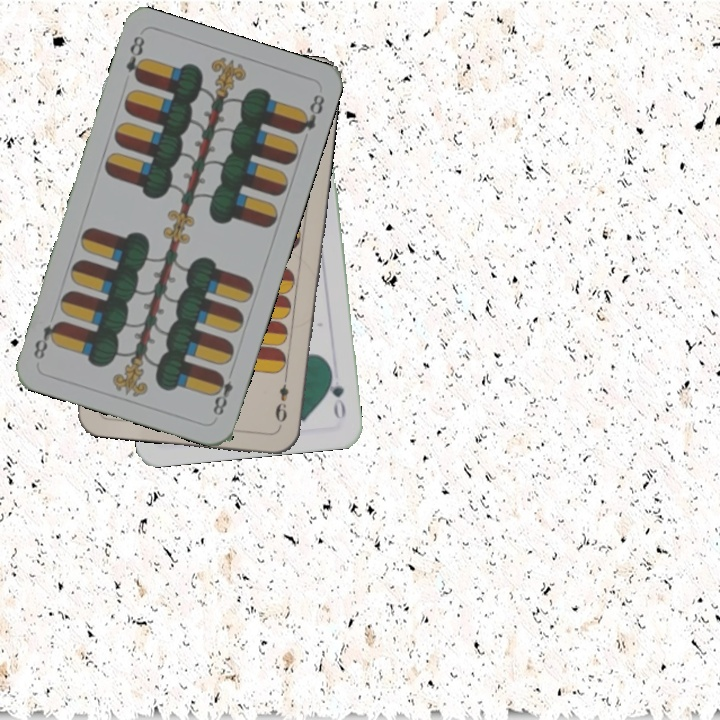E8: (208, 364, 237, 418), (121, 31, 148, 85)
E9: (271, 370, 292, 429)
GO: (324, 364, 348, 422)
